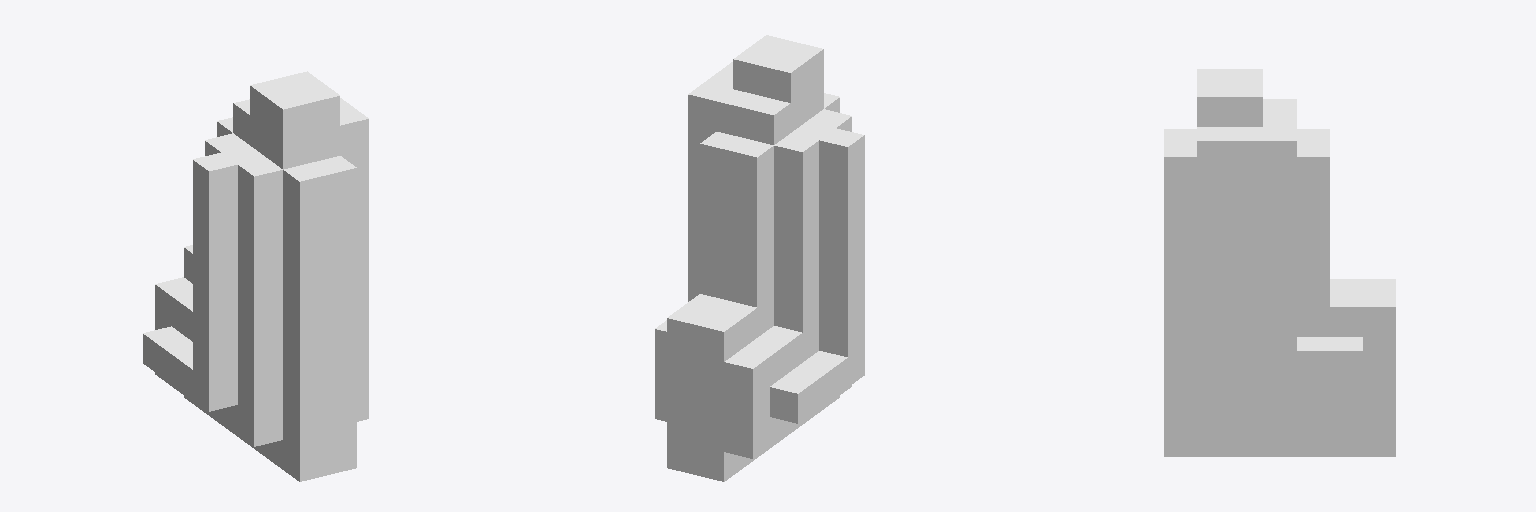
File: saboObj-1.obj
The picture shows the model from 3 angles: view 1: azimuth 30°, elevation 25°; view 2: azimuth 150°, elevation 25°; view 3: azimuth 270°, elevation 25°; orthographic projection.
Visible parts, largest first — view 1: object 1; view 2: object 1; view 3: object 1.
Part boxes in pixels (x1,y1,x2,y2): object 1: (143,71,368,481); object 1: (655,35,864,481); object 1: (1164,69,1395,456).
Bounding box in the file's own units: 0.5 × 1.2 × 0.7.